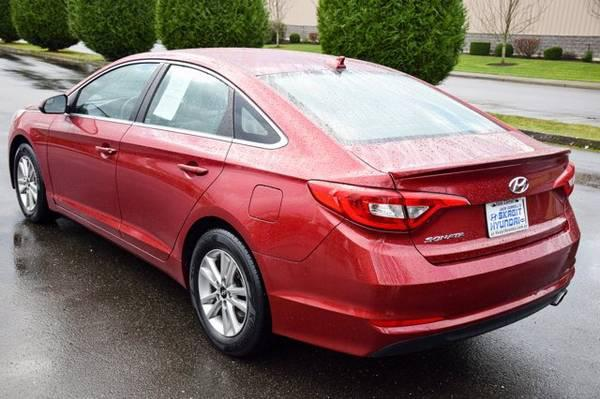Front_Fender: (5, 107, 56, 204)
Front_Left_Door: (45, 113, 131, 241)
Front_Left_Window: (56, 61, 171, 119)
Left_Taillight: (316, 181, 476, 232)
Rear_Bumper: (250, 199, 582, 355)
Rear_Fender: (193, 91, 399, 260)
Rear_Left_Door: (115, 121, 236, 277)
Rear_Left_Window: (139, 60, 239, 140)
Rear_Windshield: (263, 64, 515, 142)
Right_Taillight: (553, 160, 574, 196)
Roof: (67, 44, 400, 144)
Tailgate: (350, 130, 569, 262)
Wheel: (185, 225, 268, 354), (14, 145, 45, 220)
